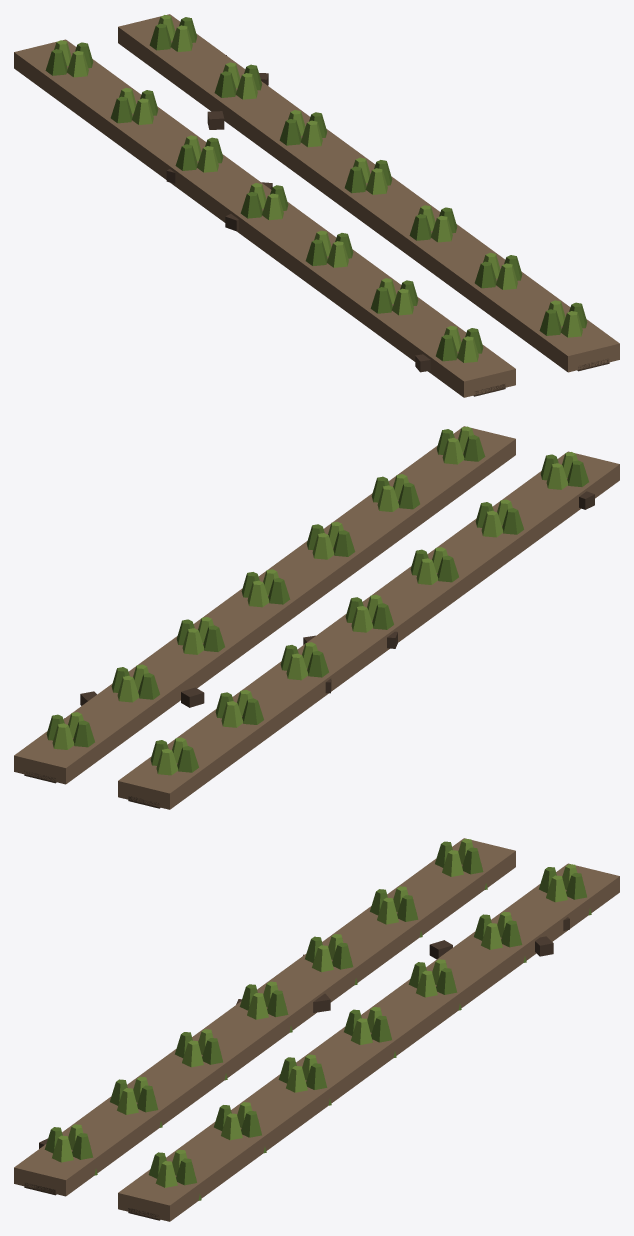
Rendered from crop_herbs_2.glb.
3 renders of one model, top to bottom at view 1: azimuth 30°, elevation 25°; view 2: azimuth 150°, elevation 25°; view 3: azimuth 330°, elevation 25°, orthographic.
Parts seen in each view (by area): view 1: room_crop_herbs_2; view 2: room_crop_herbs_2; view 3: room_crop_herbs_2.
Part boxes in pixels (bbox=[...]): room_crop_herbs_2: bbox=[14, 14, 619, 397]; room_crop_herbs_2: bbox=[14, 426, 619, 809]; room_crop_herbs_2: bbox=[14, 838, 619, 1221].
Bounding box in the file's own units: 0.6991 × 0.138 × 3.
